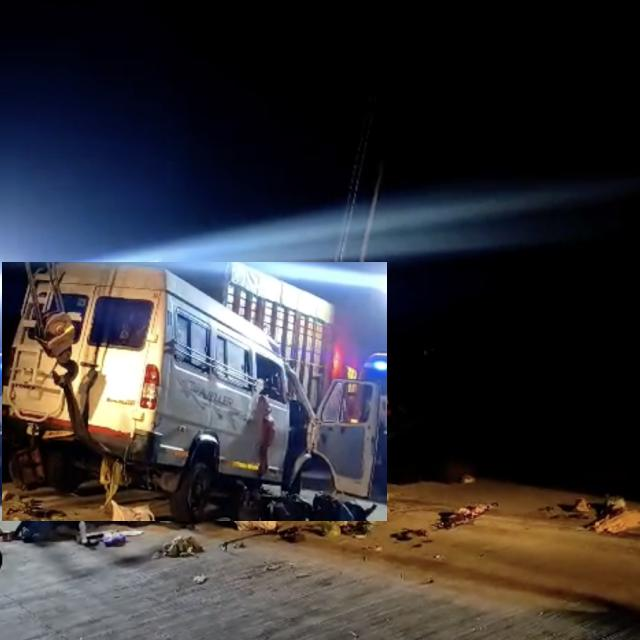accident: (2, 263, 387, 521)
